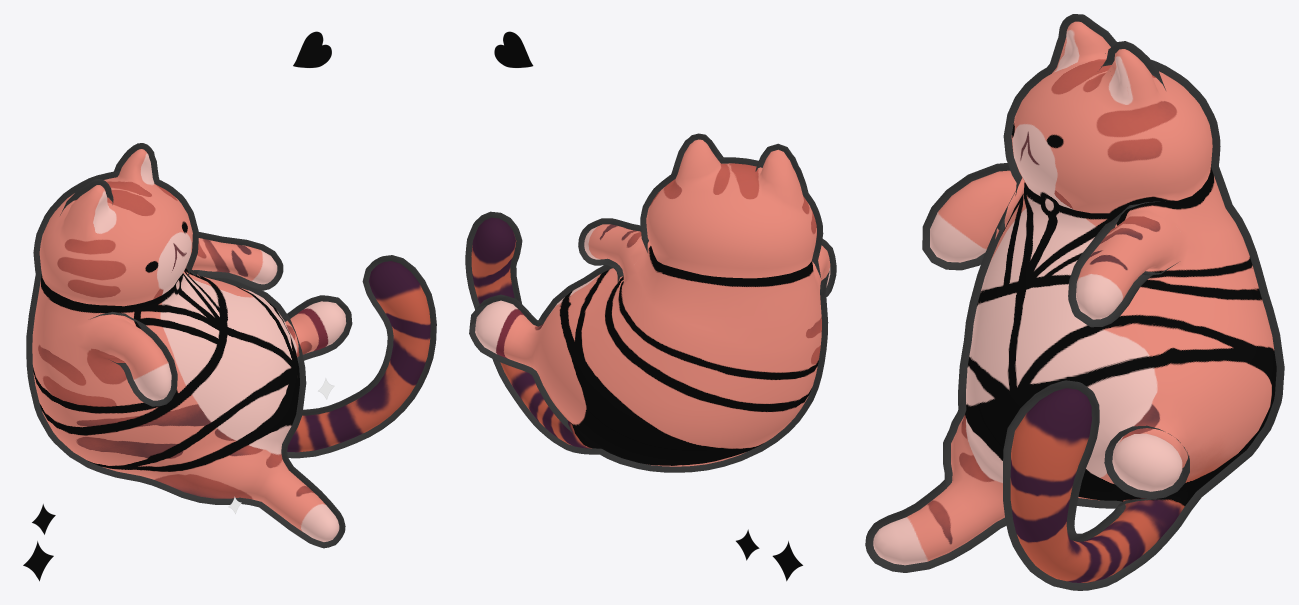
File: second cat.gltf
3 views of the same model, side by side, from view 1: azimuth 30°, elevation 25°; view 2: azimuth 150°, elevation 25°; view 3: azimuth 270°, elevation 25° (orthographic). The views are drawn at different scales.
Visible parts, largest first — view 1: polySurface4_cat2_0, polySurface3_line_0, pPlane20; view 2: polySurface4_cat2_0, polySurface3_line_0, pPlane20, pPlane8; view 3: polySurface4_cat2_0, polySurface3_line_0.
Boxes of the visible parts, x1,y1,x2,y2 form: polySurface4_cat2_0: (32,149,430,541); polySurface3_line_0: (26,143,436,548); pPlane20: (293,31,331,67); polySurface4_cat2_0: (471,139,830,466); polySurface3_line_0: (465,133,836,472); pPlane20: (494,31,533,67); pPlane8: (772,541,802,581); polySurface4_cat2_0: (873,21,1276,582); polySurface3_line_0: (865,14,1284,590).
Bounding box in the file's own units: 1.52 × 1.91 × 1.12.
Materials: 3 (2 with a texture image).
